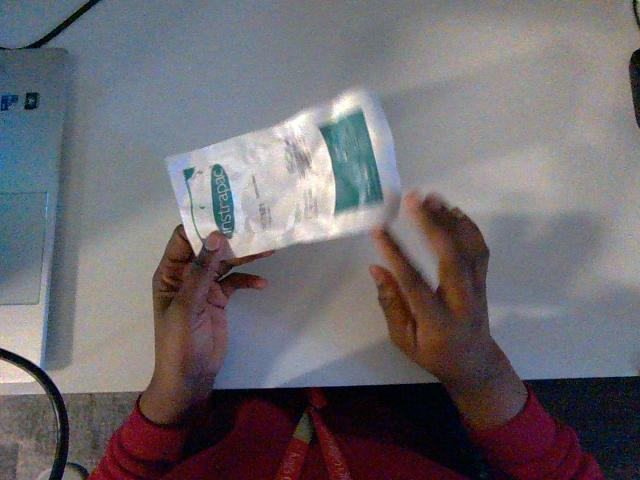gallipot: (166, 90, 400, 256)
